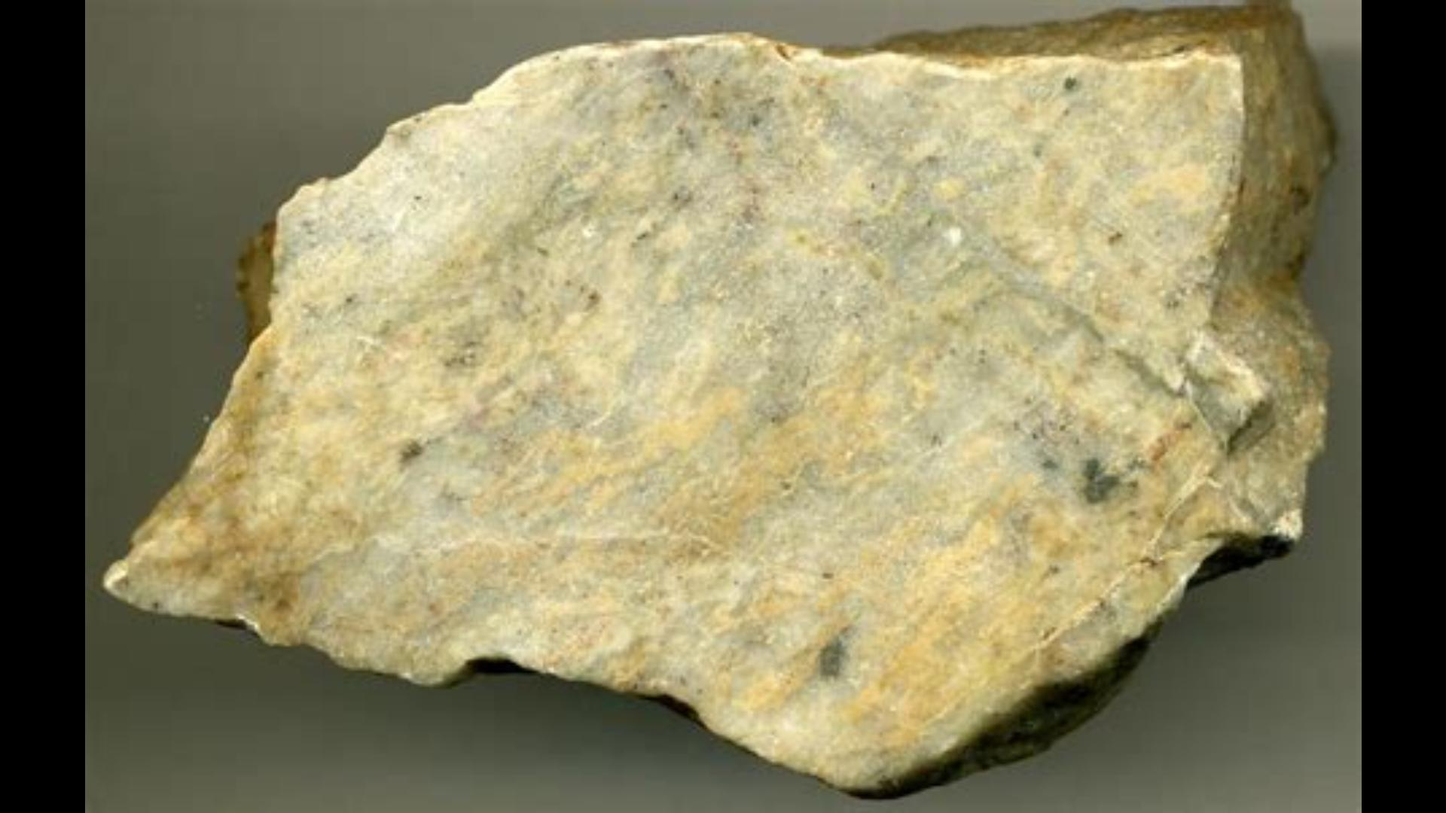rock: (106, 5, 1326, 786)
